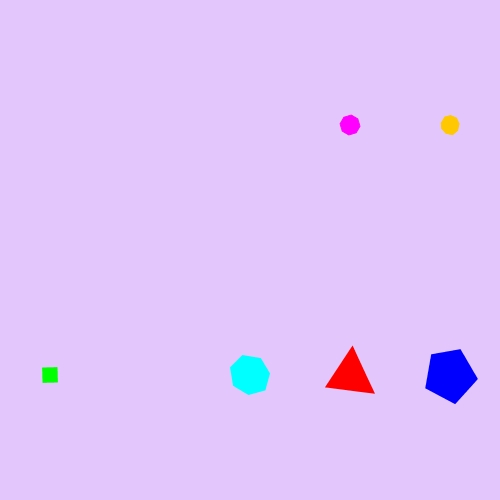heptagon: (226, 352, 274, 398)
nonagon: (436, 111, 465, 139)
octagon: (335, 110, 365, 140)
pentagon: (420, 345, 480, 405)
quadrilateral: (35, 360, 65, 390)
triangle: (324, 348, 376, 403)
